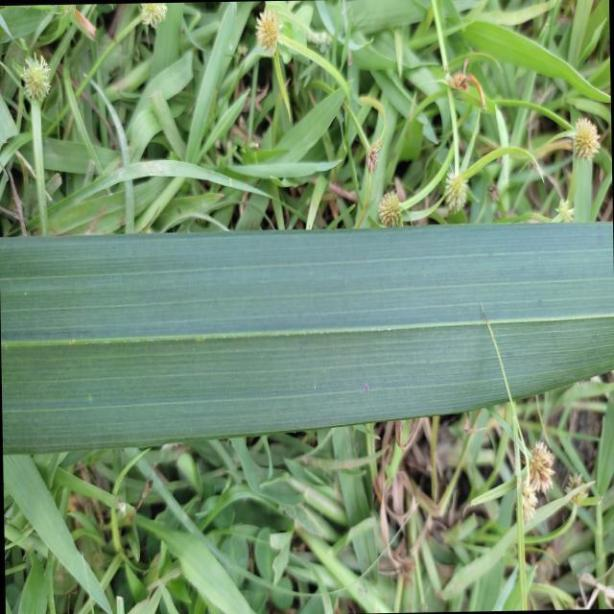Healthy: (3, 219, 614, 454)
